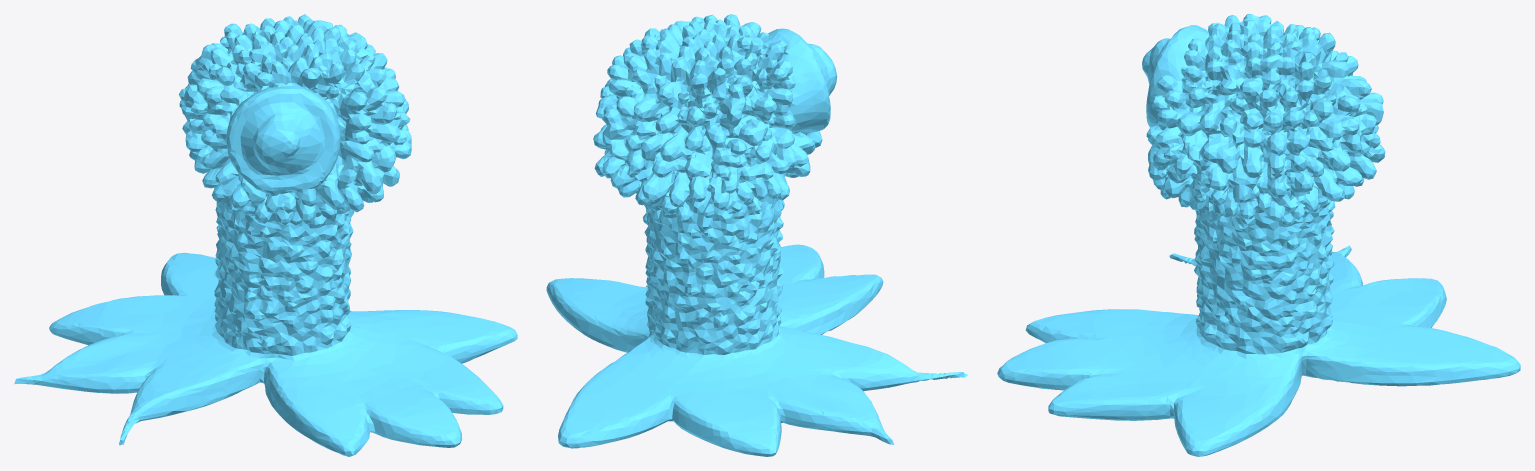
The model's file is zubi.glb.
The picture shows the model from 3 angles, left to right: view 1: azimuth 30°, elevation 25°; view 2: azimuth 150°, elevation 25°; view 3: azimuth 270°, elevation 25°; orthographic projection.
Parts seen in each view (by area): view 1: Zubi_Body; view 2: Zubi_Body; view 3: Zubi_Body.
Boxes of the visible parts, x1,y1,x2,y2 form: Zubi_Body: [14, 14, 517, 456]; Zubi_Body: [546, 14, 967, 456]; Zubi_Body: [997, 14, 1520, 456].
Bounding box in the file's own units: 0.9913 × 0.745 × 1.06.
